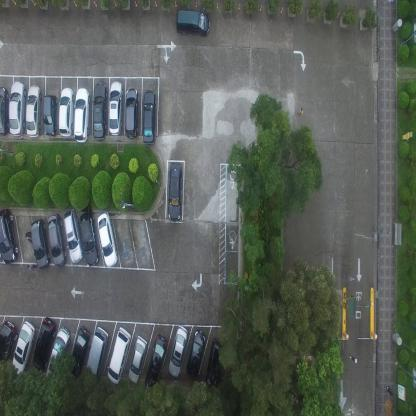car: (106, 326, 132, 385), (144, 333, 169, 393), (44, 326, 70, 382), (32, 314, 56, 372), (78, 203, 100, 266), (11, 320, 35, 375), (96, 209, 118, 268), (85, 326, 109, 380), (63, 207, 83, 262), (169, 324, 189, 379), (69, 327, 90, 378), (30, 217, 51, 268), (176, 10, 211, 40), (127, 335, 148, 385), (185, 330, 206, 380), (206, 336, 224, 392), (48, 212, 66, 268), (0, 209, 18, 265), (9, 79, 26, 138), (168, 163, 184, 224), (0, 319, 18, 373), (74, 86, 90, 144), (26, 83, 42, 138), (108, 79, 123, 136), (93, 80, 107, 140), (58, 86, 74, 138), (142, 88, 156, 144), (125, 87, 139, 139), (42, 92, 58, 137), (0, 84, 9, 137)
